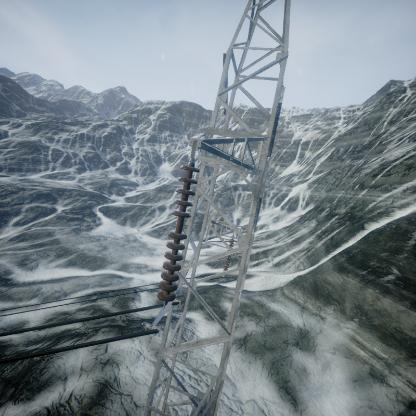insulator: (155, 158, 200, 302)
